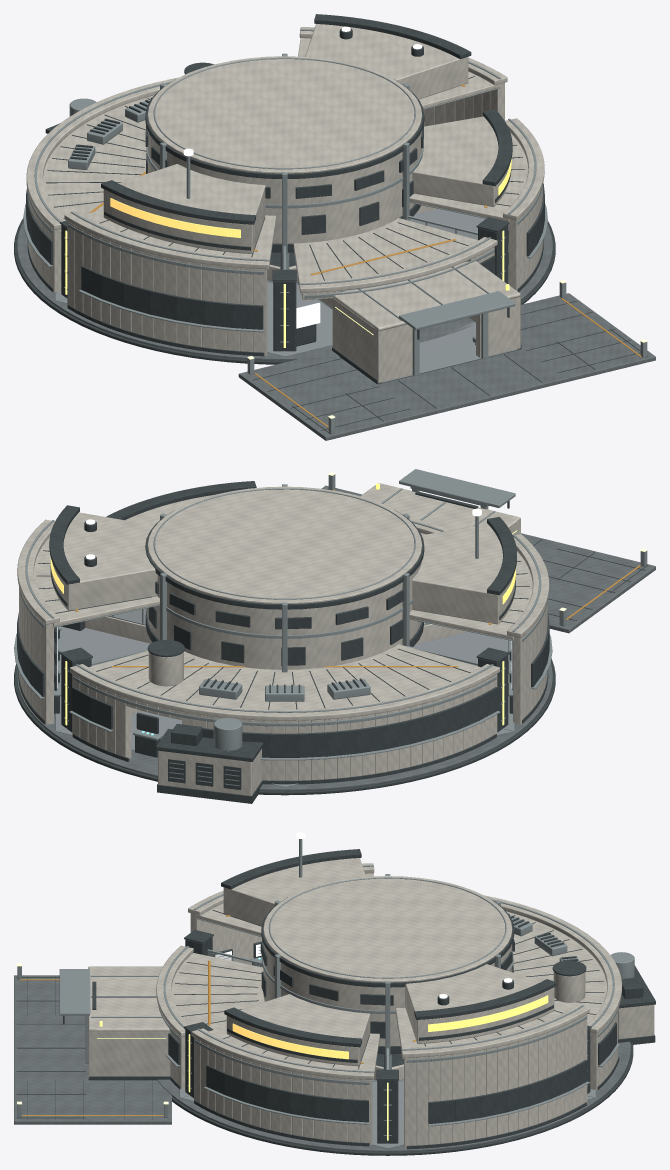
The model's file is hq-shell.4d0e7c579d64.glb.
The picture shows the model from 3 angles, top to bottom: view 1: azimuth 30°, elevation 25°; view 2: azimuth 150°, elevation 25°; view 3: azimuth 270°, elevation 25°; orthographic projection. The views are drawn at different scales.
Visible parts, largest first — view 1: MF_Roof__structure_ivory_ceramic, MF_Court__court_weathered_basalt, MF_BaseFixed__structure_ivory_ceramic, MF_Roof__structure_graphite_joints, MF_BaseFixed__structure_graphite_joints, MF_ShellCutaway_FrontFlats__structure_ivory_ceramic, MF_Roof__brushed_titanium, MF_BaseFixed__court_weathered_basalt, MF_BaseFixed__brushed_titanium, MF_ShellCutaway_FrontFlats__brushed_titanium, MF_Interior_dispatch__room_inlay_dispatch, MF_Court__structure_graphite_joints (+4 smaller); view 2: MF_Roof__structure_ivory_ceramic, MF_BaseFixed__structure_ivory_ceramic, MF_BaseFixed__structure_graphite_joints, MF_Roof__structure_graphite_joints, MF_Roof__brushed_titanium, MF_Court__court_weathered_basalt, MF_BaseFixed__brushed_titanium, MF_BaseFixed__court_weathered_basalt, MF_Interior_review__room_inlay_review, MF_Interior_planning__room_inlay_planning, MF_Interior_implementation__structure_graphite_joints, MF_Interior_implementation__room_inlay_implementation (+3 smaller); view 3: MF_Roof__structure_ivory_ceramic, MF_BaseFixed__structure_ivory_ceramic, MF_ShellCutaway_FrontFlats__structure_ivory_ceramic, MF_Court__court_weathered_basalt, MF_BaseFixed__structure_graphite_joints, MF_Roof__structure_graphite_joints, MF_Roof__brushed_titanium, MF_ShellCutaway_FrontFlats__structure_graphite_joints, MF_BaseFixed__court_weathered_basalt, MF_BaseFixed__brushed_titanium, MF_ShellCutaway_FrontFlats__brushed_titanium, MF_Roof__practical_warm_window_glass (+1 smaller).
Boxes of the visible parts, left/top/right/bottom form: MF_Roof__structure_ivory_ceramic: left=43, top=24, right=528, bottom=330; MF_Court__court_weathered_basalt: left=238, top=293, right=655, bottom=440; MF_BaseFixed__structure_ivory_ceramic: left=26, top=27, right=507, bottom=355; MF_Roof__structure_graphite_joints: left=46, top=14, right=525, bottom=339; MF_BaseFixed__structure_graphite_joints: left=14, top=123, right=555, bottom=384; MF_ShellCutaway_FrontFlats__structure_ivory_ceramic: left=299, top=118, right=544, bottom=382; MF_Roof__brushed_titanium: left=60, top=53, right=515, bottom=330; MF_BaseFixed__court_weathered_basalt: left=17, top=221, right=552, bottom=360; MF_BaseFixed__brushed_titanium: left=23, top=29, right=505, bottom=342; MF_ShellCutaway_FrontFlats__brushed_titanium: left=299, top=118, right=547, bottom=375; MF_Interior_dispatch__room_inlay_dispatch: left=382, top=321, right=516, bottom=382; MF_Court__structure_graphite_joints: left=252, top=301, right=648, bottom=434; MF_Roof__structure_ivory_ceramic: left=33, top=483, right=532, bottom=709; MF_BaseFixed__structure_ivory_ceramic: left=17, top=519, right=549, bottom=795; MF_BaseFixed__structure_graphite_joints: left=14, top=613, right=555, bottom=803; MF_Roof__structure_graphite_joints: left=37, top=481, right=529, bottom=745; MF_Roof__brushed_titanium: left=52, top=469, right=515, bottom=751; MF_Court__court_weathered_basalt: left=321, top=485, right=655, bottom=633; MF_BaseFixed__brushed_titanium: left=14, top=520, right=552, bottom=786; MF_BaseFixed__court_weathered_basalt: left=17, top=663, right=552, bottom=790; MF_Interior_review__room_inlay_review: left=56, top=626, right=149, bottom=730; MF_Interior_planning__room_inlay_planning: left=413, top=631, right=513, bottom=730; MF_Interior_implementation__structure_graphite_joints: left=135, top=712, right=160, bottom=757; MF_Interior_implementation__room_inlay_implementation: left=58, top=711, right=510, bottom=787; MF_Roof__structure_ivory_ceramic: left=88, top=858, right=606, bottom=1070; MF_BaseFixed__structure_ivory_ceramic: left=188, top=863, right=654, bottom=1148; MF_ShellCutaway_FrontFlats__structure_ivory_ceramic: left=88, top=945, right=374, bottom=1146; MF_Court__court_weathered_basalt: left=14, top=975, right=171, bottom=1124; MF_BaseFixed__structure_graphite_joints: left=88, top=930, right=655, bottom=1155; MF_Roof__structure_graphite_joints: left=63, top=849, right=643, bottom=1069; MF_Roof__brushed_titanium: left=59, top=839, right=634, bottom=1081; MF_ShellCutaway_FrontFlats__structure_graphite_joints: left=89, top=981, right=369, bottom=1146; MF_BaseFixed__court_weathered_basalt: left=157, top=1041, right=630, bottom=1151; MF_BaseFixed__brushed_titanium: left=187, top=865, right=620, bottom=1135; MF_ShellCutaway_FrontFlats__brushed_titanium: left=85, top=946, right=374, bottom=1124; MF_Roof__practical_warm_window_glass: left=232, top=995, right=548, bottom=1059.
Bounding box in the file's own units: 35.5 × 12.31 × 46.37.
20 materials, 3 textured.
